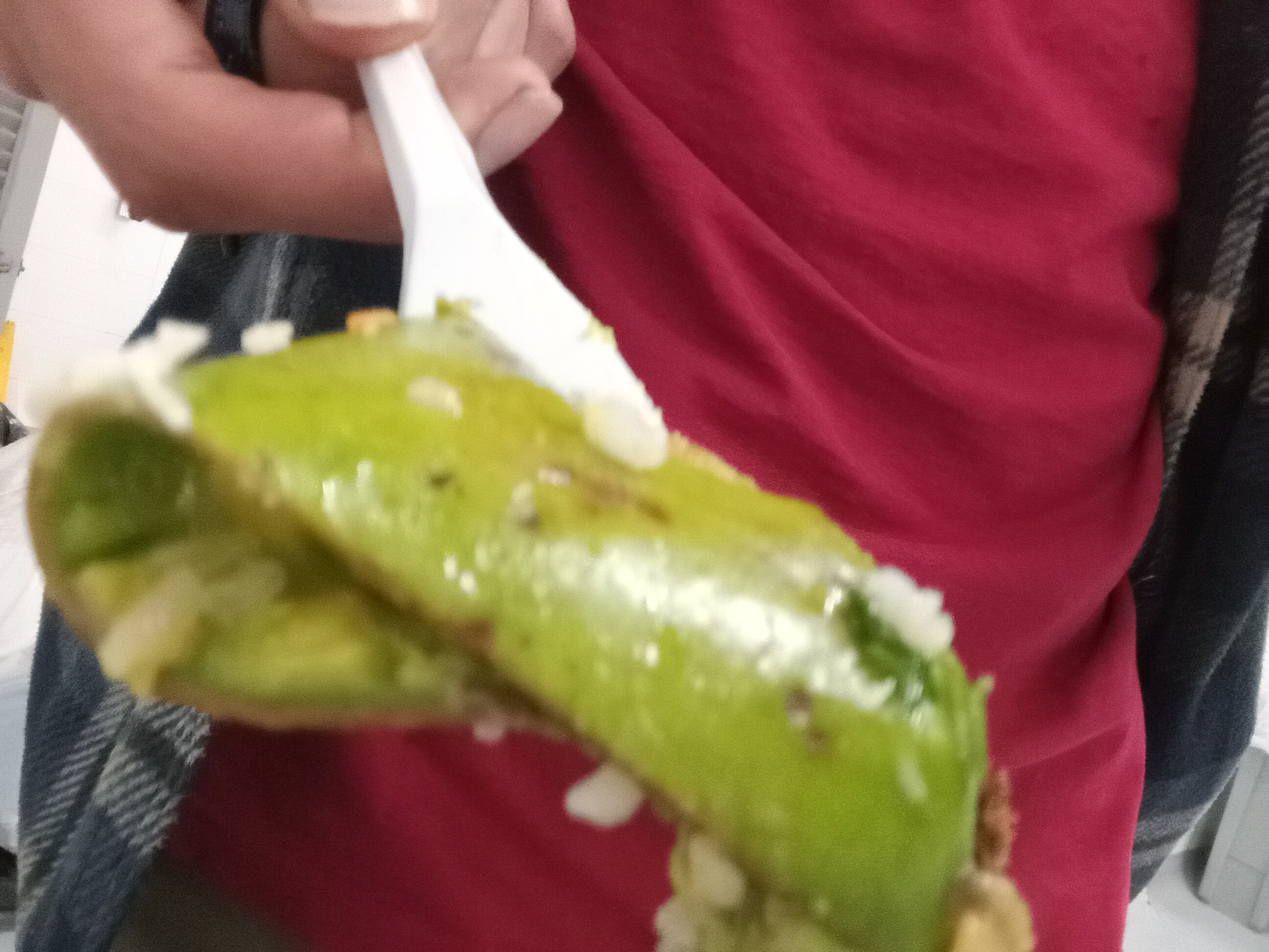Organico: (25, 303, 1038, 952)
